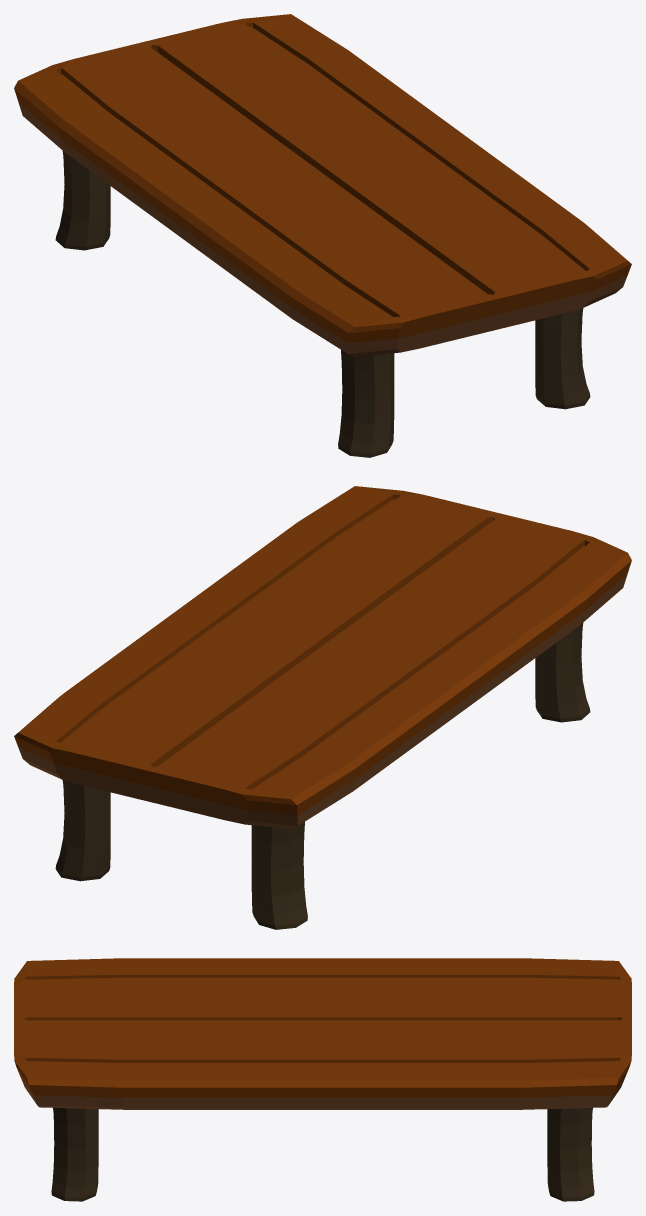
The model's file is LangtBord.fbx.
The picture shows the model from 3 angles, top to bottom: view 1: azimuth 30°, elevation 25°; view 2: azimuth 150°, elevation 25°; view 3: azimuth 270°, elevation 25°; orthographic projection. The views are drawn at different scales.
Visible parts, largest first — view 1: Cube.015, Cube.016; view 2: Cube.015, Cube.016; view 3: Cube.015, Cube.016.
Part boxes in pixels (box(x1,y1,x2,y2)): Cube.015: box(14, 14, 631, 356); Cube.016: box(55, 151, 590, 457); Cube.015: box(14, 486, 631, 828); Cube.016: box(55, 623, 590, 929); Cube.015: box(14, 958, 631, 1109); Cube.016: box(51, 1108, 594, 1201).
Size of the model in its own units: 207 by 100 by 428.
